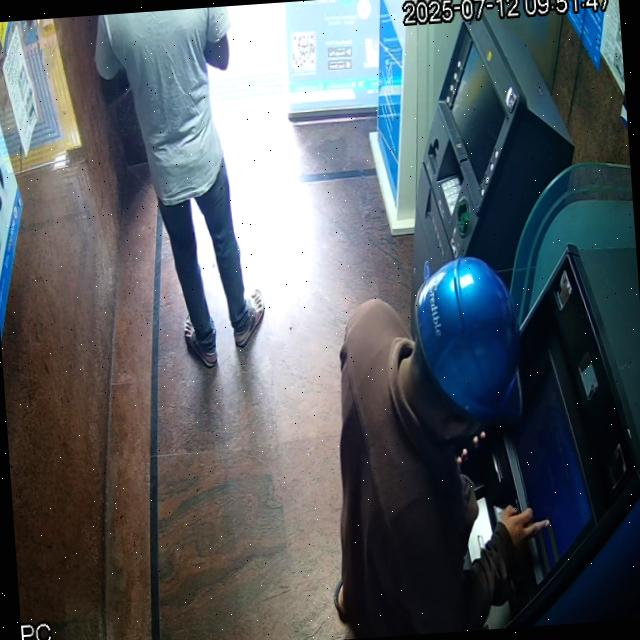helmet: (397, 255, 521, 443)
